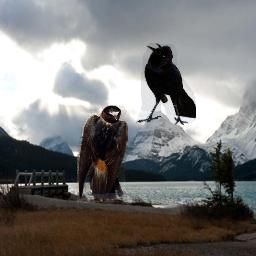Crow: (136, 43, 196, 125)
Swallow: (77, 105, 128, 203)
